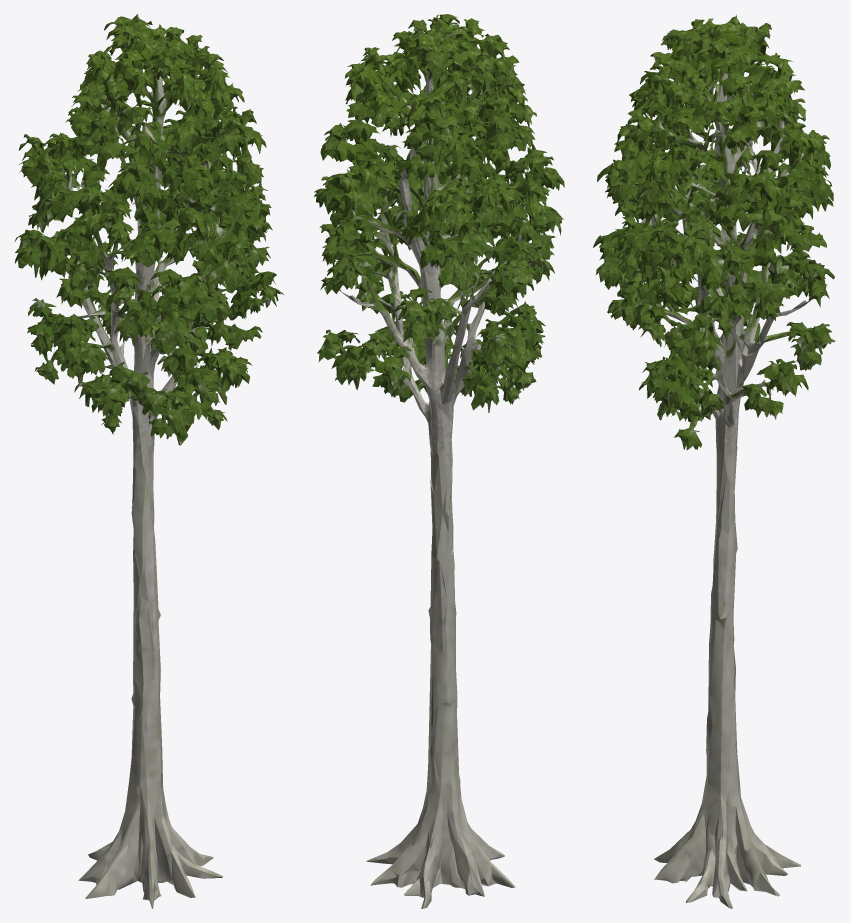
File: remeshed-takhian70.glb
3 views of the same model, side by side, from view 1: azimuth 30°, elevation 25°; view 2: azimuth 150°, elevation 25°; view 3: azimuth 270°, elevation 25° (orthographic).
Visible parts, largest first — view 1: output_unwrapped; view 2: output_unwrapped; view 3: output_unwrapped.
Boxes of the visible parts, x1,y1,x2,y2 form: output_unwrapped: (14, 14, 283, 908); output_unwrapped: (314, 14, 564, 908); output_unwrapped: (593, 14, 835, 908).
Size of the model in its own units: 0.5173 by 1.89 by 0.4895.
1 material, 1 textured.
